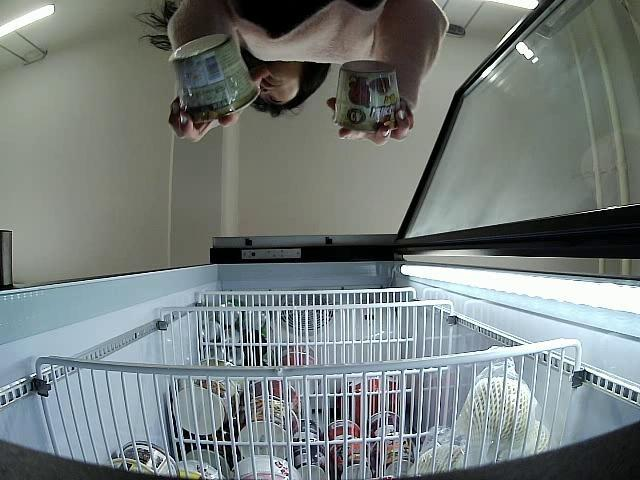04_chapagetti_S: (169, 31, 260, 122), (332, 63, 405, 134)
